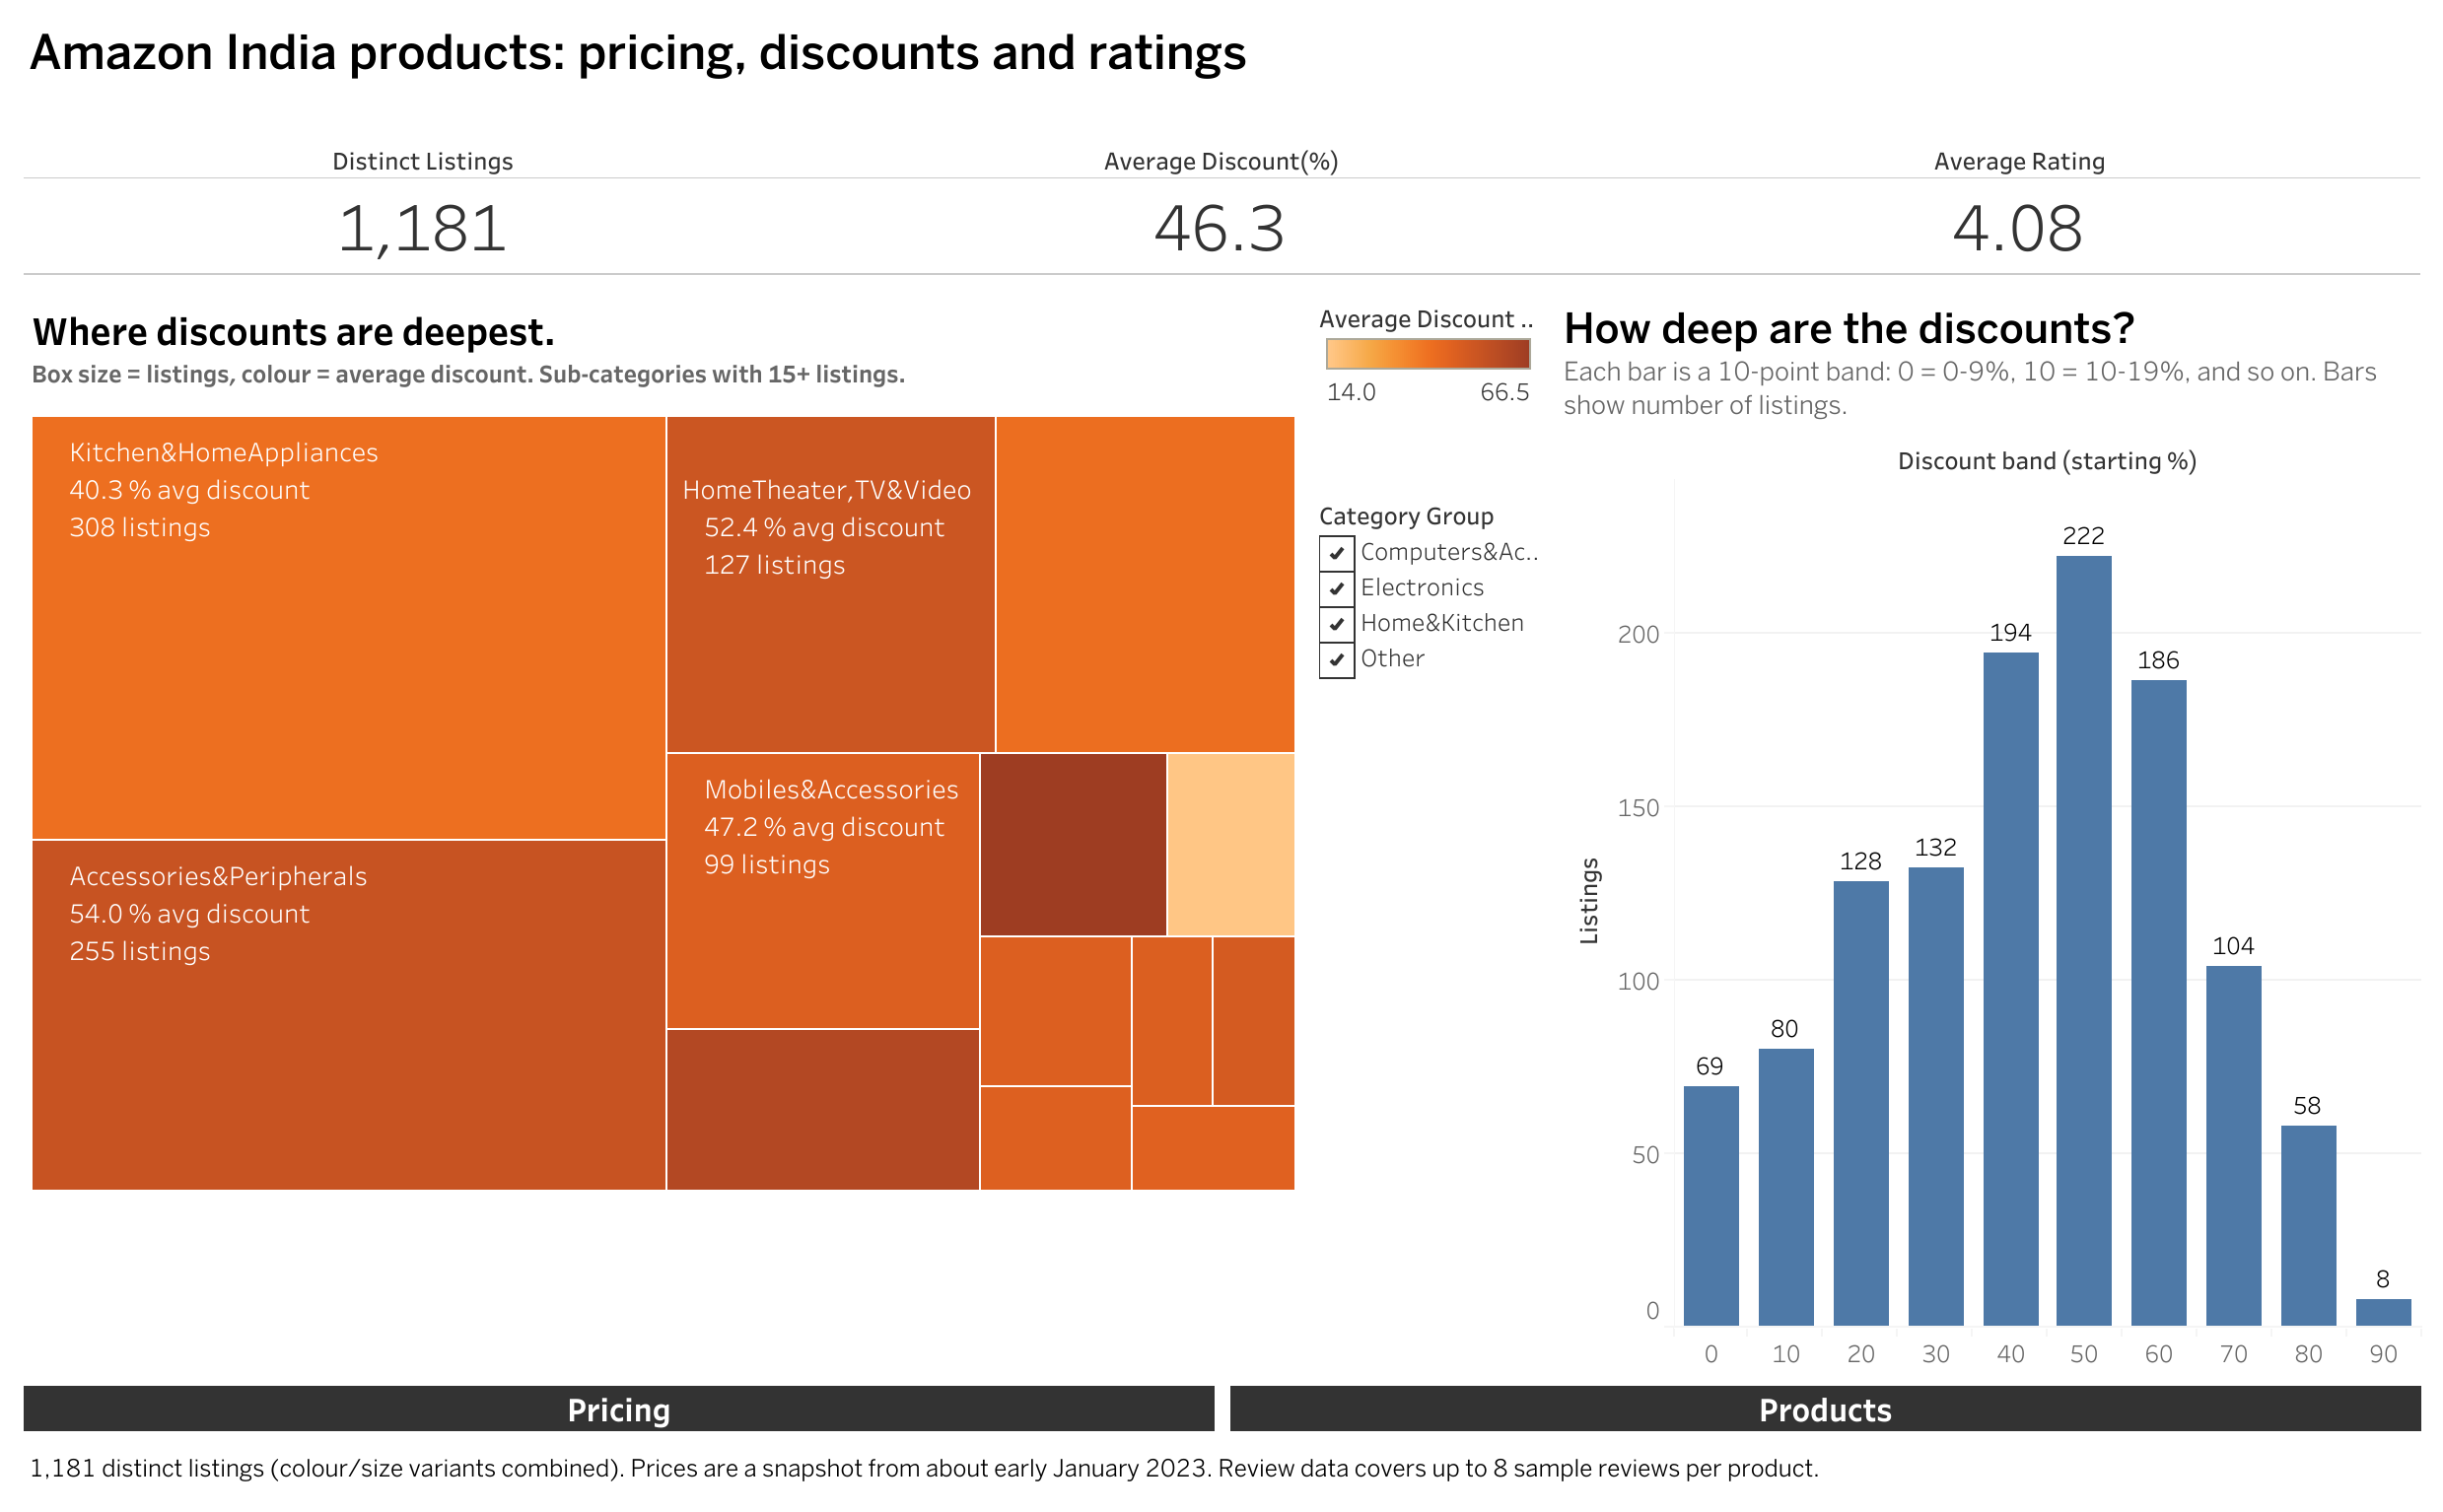

What the dashboard file says about the page in this screenshot:
{"tool":"tableau","page":{"name":"Overview","canvas":[1000,1000],"units":"permille","ordinal":0},"visuals":[{"type":"title","box":[5.9,10.4,988.3,48.2]},{"type":"worksheet","title":"KPIs","mark":"Automatic","box":[5.9,58.6,988.3,127.1]},{"type":"worksheet","title":"TreeMap","mark":"Square","box":[5.9,185.7,530.7,724.6]},{"type":"legend","title":"TreeMap","param":"[federated.1sc7opd0tyk4oe1c6oxqi0ae51db].[avg:discount_pct:qk]","box":[536.6,185.7,96.9,134.7]},{"type":"worksheet","title":"Discount distribution","mark":"Automatic","rows":["Calculation_0588158657232897"],"cols":["Discount Pct (bin)"],"box":[633.5,185.7,360.7,724.6]},{"type":"filter","title":"TreeMap","param":"[federated.1sc7opd0tyk4oe1c6oxqi0ae51db].[none:category_group:nk]","box":[536.6,320.4,96.9,589.9]},{"type":"dashboard-object","box":[5.9,910.4,494.1,39.6]},{"type":"dashboard-object","box":[500,910.4,494.1,39.6]},{"type":"text","box":[5.9,949.9,988.3,39.6]}]}

Visuals, with their boxes on the dashboard's canvas, which has no fixed pixel size, in thousandths of its width and height (x1, y1, x2, y2). These are canvas units, not pixel positions in the 2443x1512 screenshot, which may show the page scaled, cropped or inside an application window:
title: [left=6, top=10, right=994, bottom=59]
"KPIs" worksheet: [left=6, top=59, right=994, bottom=186]
"TreeMap" worksheet (Square marks): [left=6, top=186, right=537, bottom=910]
"TreeMap" legend: [left=537, top=186, right=634, bottom=320]
"Discount distribution" worksheet: [left=634, top=186, right=994, bottom=910]
"TreeMap" filter: [left=537, top=320, right=634, bottom=910]
dashboard-object: [left=6, top=910, right=500, bottom=950]
dashboard-object: [left=500, top=910, right=994, bottom=950]
text: [left=6, top=950, right=994, bottom=990]
